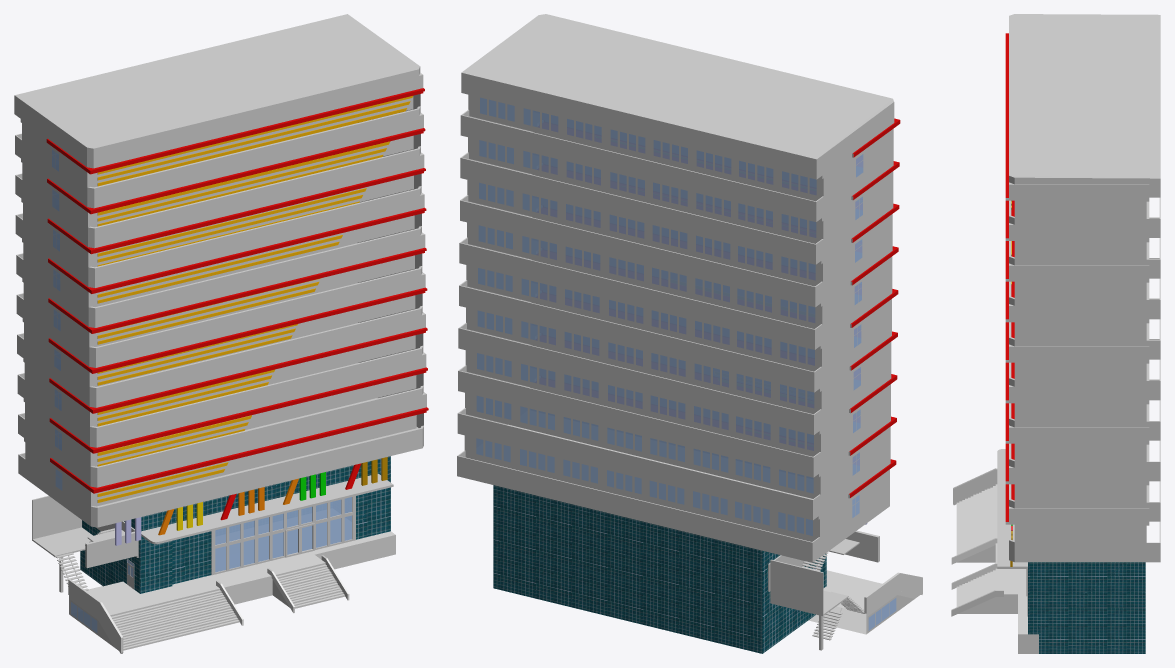
Rendered from Tòa I.fbx.
The picture shows the model from 3 angles, left to right: view 1: azimuth 30°, elevation 25°; view 2: azimuth 150°, elevation 25°; view 3: azimuth 270°, elevation 25°; orthographic projection. The views are drawn at different scales.
Visible parts, largest first — view 1: ToaI_LOD0; view 2: ToaI_LOD0; view 3: ToaI_LOD0.
Part boxes in pixels (left/top/right/bottom): ToaI_LOD0: left=14, top=14, right=428, bottom=653; ToaI_LOD0: left=457, top=14, right=922, bottom=653; ToaI_LOD0: left=951, top=14, right=1160, bottom=653.
Size of what is drawn, in the model's own units: 2813 by 3862 by 1498.
